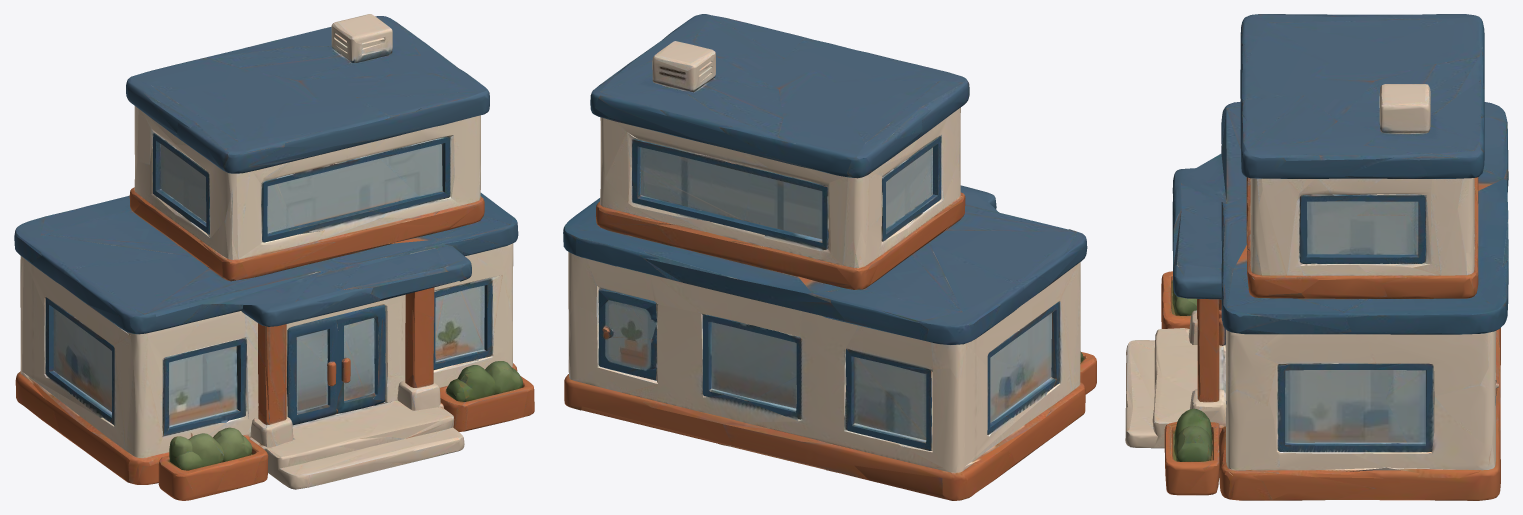
The model's file is realtyDuplex.glb.
3 renders of one model, left to right at view 1: azimuth 30°, elevation 25°; view 2: azimuth 150°, elevation 25°; view 3: azimuth 270°, elevation 25°, orthographic. The views are drawn at different scales.
Visible parts, largest first — view 1: Mesh_0; view 2: Mesh_0; view 3: Mesh_0.
Boxes of the visible parts, bbox=[...] form: Mesh_0: bbox=[14, 14, 534, 500]; Mesh_0: bbox=[563, 14, 1096, 500]; Mesh_0: bbox=[1125, 14, 1508, 500].
Size of the model in its own units: 3.2 by 2.54 by 2.41.
Materials: 1 (1 with a texture image).
